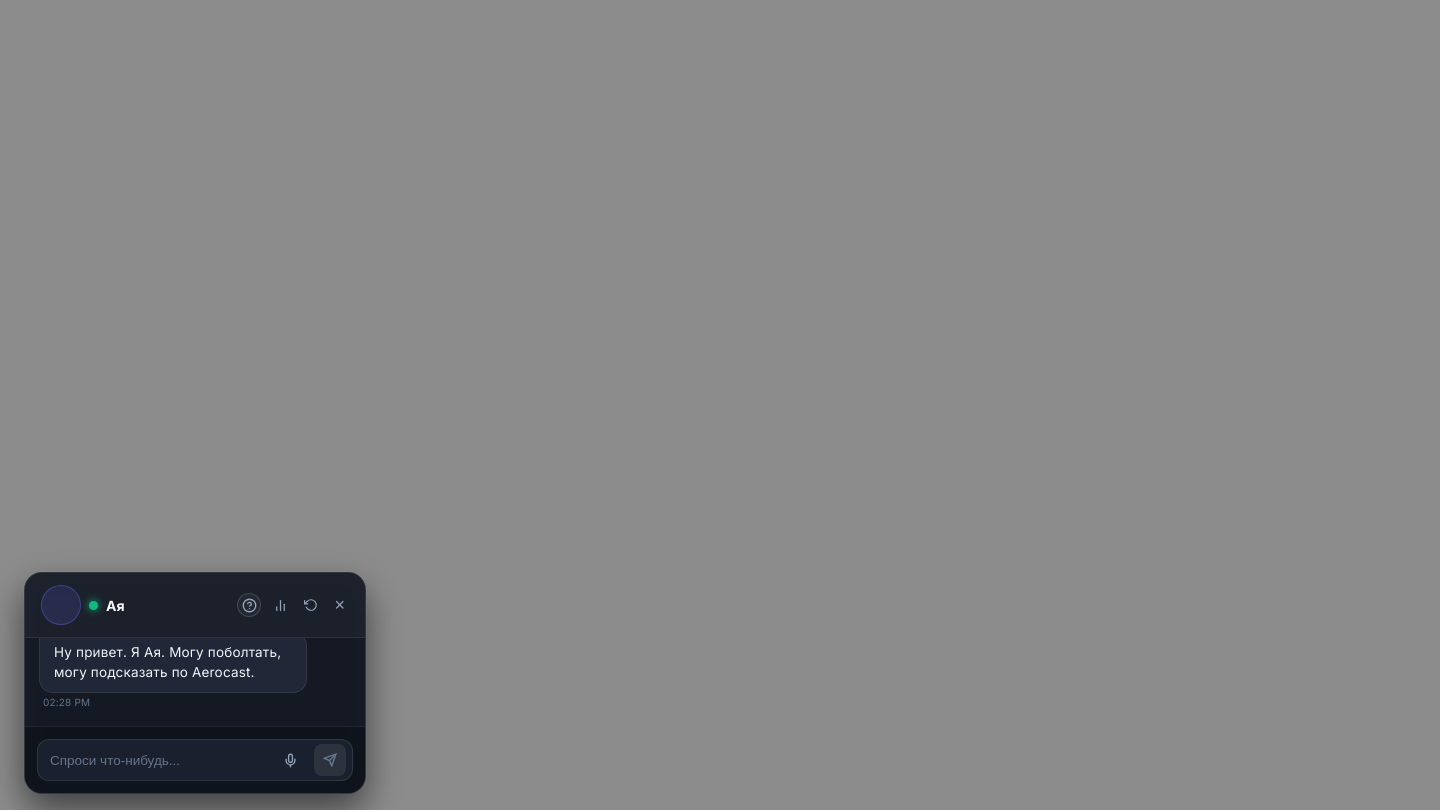
AiChatModalCoverage › обрабатывает клик по кнопке быстрой аналитики текущей точки
(page scrolled)
Click the button with test id "ai-chat-quick-analytics-btn" at [281, 605], box [270, 594, 292, 616]
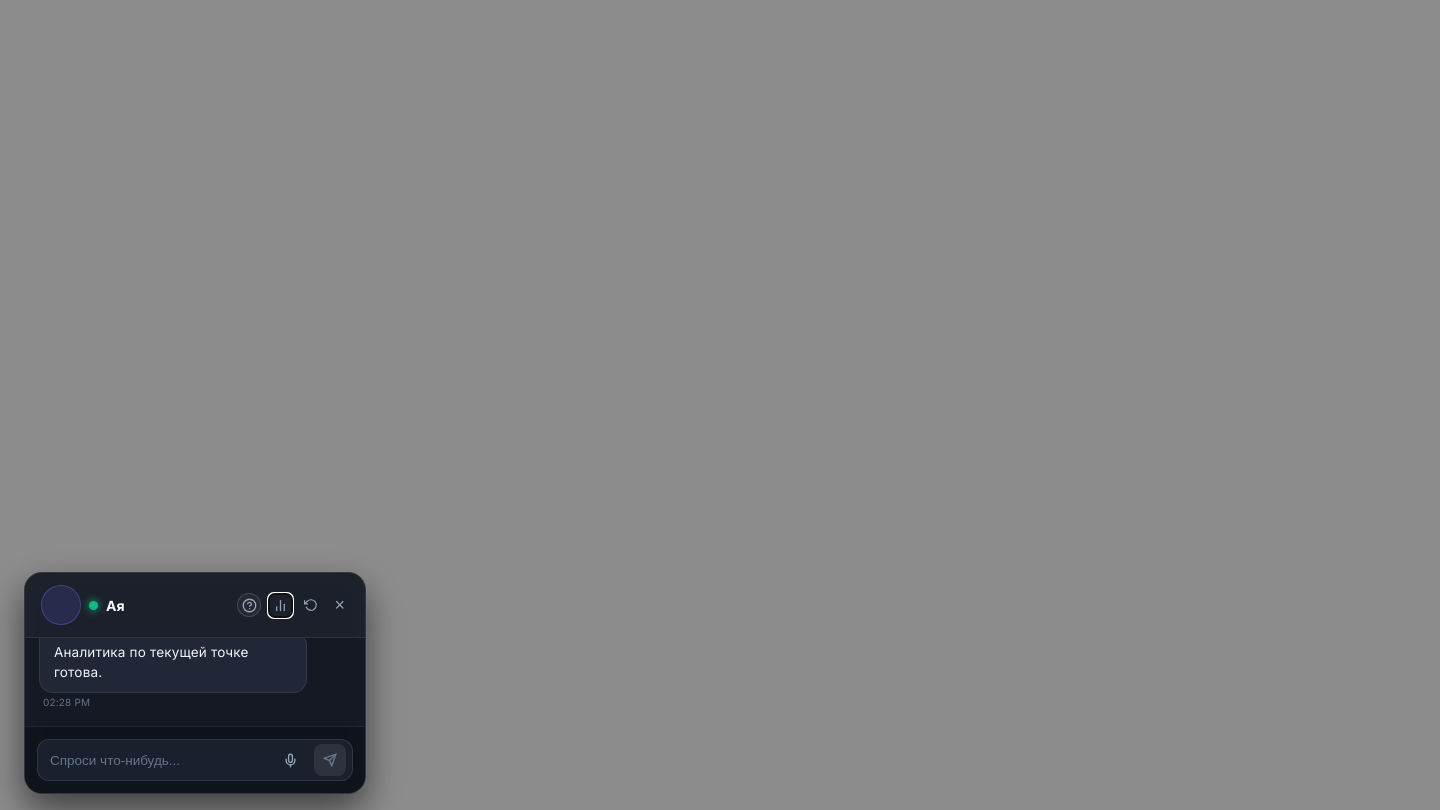
Result: the text "Аналитика по текущей точке готова." is shown at [54, 644, 249, 680]
